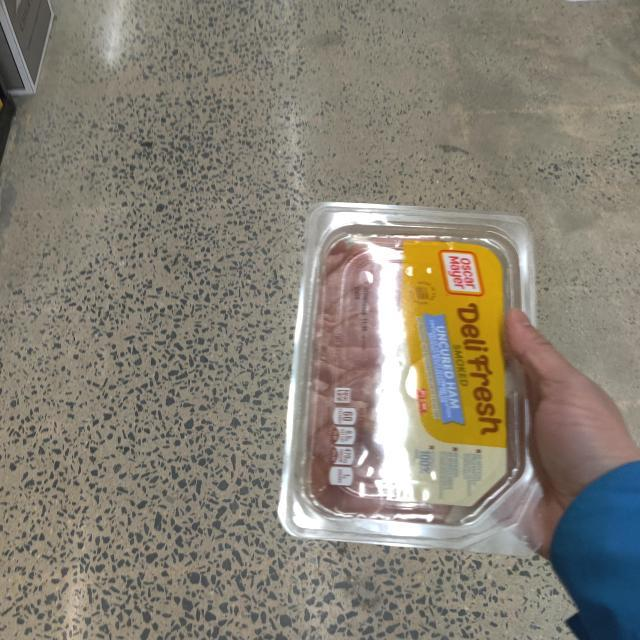Meat: (264, 184, 574, 567)
